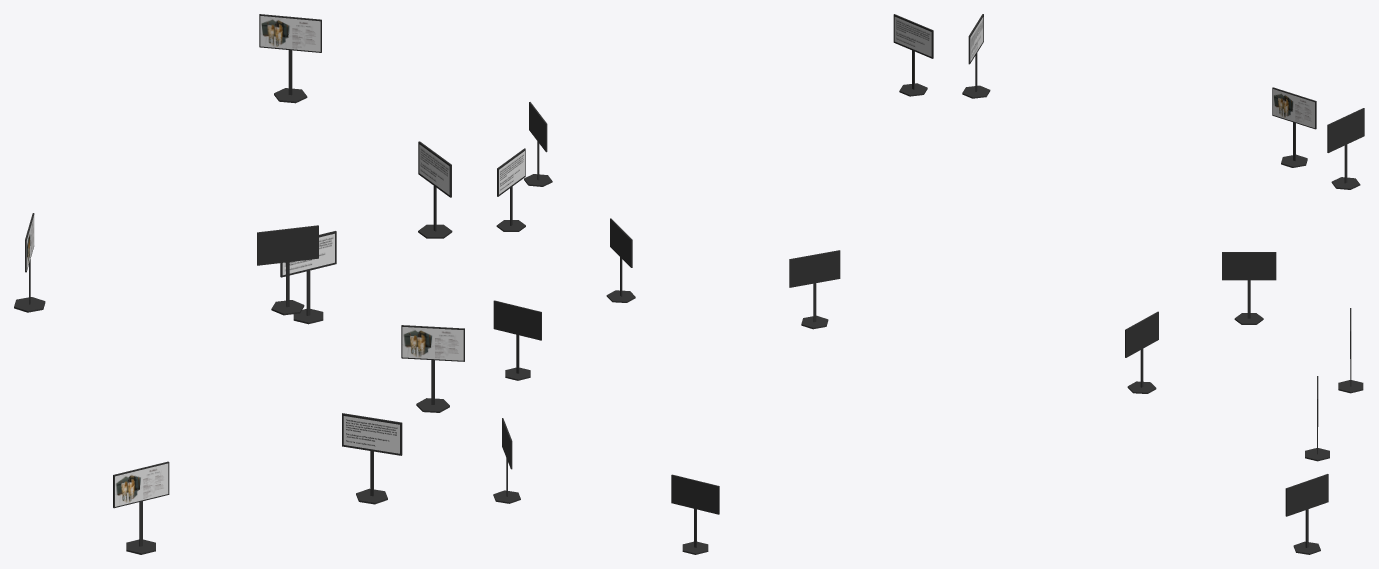
File: panneaux.glb
3 views of the same model, side by side, from view 1: azimuth 30°, elevation 25°; view 2: azimuth 150°, elevation 25°; view 3: azimuth 270°, elevation 25° (orthographic). The views are drawn at different scales.
Visible parts, largest first — view 1: panneau.002, panneau.006, panneau.007, panneau, panneau.001, panneau.005, panneau.003, panneau.004; view 2: panneau.004, panneau.003, panneau.001, panneau.007, panneau.005, panneau.002, panneau.006, panneau; view 3: panneau.005, panneau, panneau.004, panneau.006, panneau.002, panneau.007.
Boxes of the visible parts, <box> form: panneau.002: <box>401,325,464,412</box>; panneau.006: <box>259,14,321,103</box>; panneau.007: <box>257,225,318,315</box>; panneau: <box>342,413,402,504</box>; panneau.001: <box>113,461,169,554</box>; panneau.005: <box>418,141,452,238</box>; panneau.003: <box>280,231,336,324</box>; panneau.004: <box>14,213,45,312</box>; panneau.004: <box>789,250,840,329</box>; panneau.003: <box>493,300,541,380</box>; panneau.001: <box>671,474,719,554</box>; panneau.007: <box>893,14,933,96</box>; panneau.005: <box>496,148,525,231</box>; panneau.002: <box>606,218,635,302</box>; panneau.006: <box>524,102,552,186</box>; panneau: <box>493,418,520,503</box>; panneau.005: <box>1222,252,1276,324</box>; panneau: <box>1285,474,1328,554</box>; panneau.004: <box>1272,87,1316,167</box>; panneau.006: <box>1327,108,1364,189</box>; panneau.002: <box>1125,311,1158,393</box>; panneau.007: <box>962,14,990,98</box>.
Size of what is drawn, in the model's own units: 15.11 by 16.88 by 15.1.
Materials: 4 (2 with a texture image).
